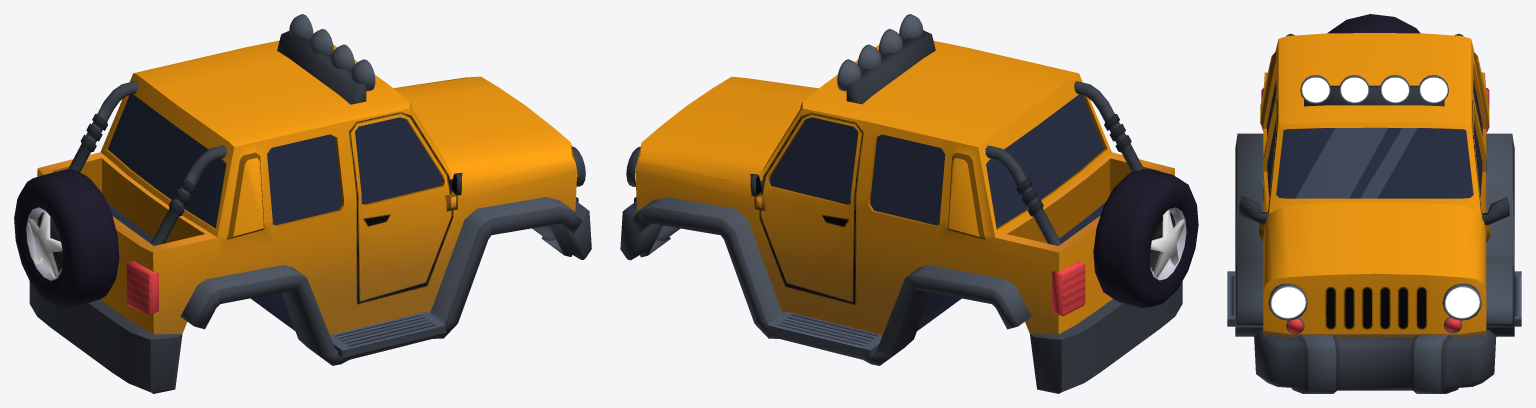
File: chassis_1.glb
The picture shows the model from 3 angles, left to right: view 1: azimuth 30°, elevation 25°; view 2: azimuth 150°, elevation 25°; view 3: azimuth 270°, elevation 25°; orthographic projection. The views are drawn at different scales.
Parts seen in each view (by area): view 1: Base_4, Fender001_19, Wheel005_35, Step001_24, Roof_lamp_support_9, Tube001_23, Bumper_Front_5, Tube_11, Rear_Light001_18, Wheel_disk004_36, Roof_Lamp003_22, Roof_Lamp001_20; view 2: Base_4, Fender_6, Wheel005_35, Step_14, Roof_lamp_support_9, Tube_11, Bumper_Front_5, Rear_Light_12, Tube001_23, Wheel_disk004_36, Roof_Lamp_10, Roof_Lamp002_21; view 3: Base_4, Bumper_Front_5, Fender_6, Fender001_19, Wheel005_35, Front_Light_Big_L_7, Front_Light_Big_R_15, Roof_lamp_support_9, Roof_Lamp003_22, Roof_Lamp001_20, Roof_Lamp002_21, Roof_Lamp_10 (+4 smaller).
Boxes of the visible parts, x1,y1,x2,y2 form: Base_4: [29, 40, 577, 393]; Fender001_19: [180, 197, 582, 365]; Wheel005_35: [14, 169, 119, 308]; Step001_24: [330, 311, 445, 357]; Roof_lamp_support_9: [277, 30, 366, 104]; Tube001_23: [151, 145, 226, 245]; Bumper_Front_5: [532, 197, 591, 259]; Tube_11: [68, 81, 137, 172]; Rear_Light001_18: [126, 260, 158, 315]; Wheel_disk004_36: [28, 211, 62, 278]; Roof_Lamp003_22: [351, 59, 375, 91]; Roof_Lamp001_20: [309, 29, 333, 56]; Base_4: [635, 41, 1182, 393]; Fender_6: [630, 197, 1031, 365]; Wheel005_35: [1093, 169, 1198, 307]; Step_14: [767, 311, 882, 357]; Roof_lamp_support_9: [846, 30, 935, 104]; Tube_11: [985, 145, 1061, 245]; Bumper_Front_5: [620, 197, 680, 260]; Rear_Light_12: [1052, 261, 1085, 315]; Tube001_23: [1074, 81, 1143, 171]; Wheel_disk004_36: [1150, 210, 1184, 278]; Roof_Lamp_10: [837, 59, 861, 91]; Roof_Lamp002_21: [878, 29, 902, 56]; Base_4: [1260, 33, 1489, 337]; Bumper_Front_5: [1254, 329, 1496, 393]; Fender_6: [1486, 133, 1514, 336]; Fender001_19: [1235, 133, 1263, 336]; Wheel005_35: [1327, 14, 1420, 33]; Front_Light_Big_L_7: [1442, 283, 1481, 320]; Front_Light_Big_R_15: [1268, 283, 1307, 320]; Roof_lamp_support_9: [1304, 85, 1444, 106]; Roof_Lamp003_22: [1300, 75, 1330, 104]; Roof_Lamp001_20: [1379, 75, 1410, 104]; Roof_Lamp002_21: [1339, 75, 1369, 104]; Roof_Lamp_10: [1418, 75, 1448, 104].
Bounding box in the file's own units: 4.93 × 2.41 × 2.62.
Materials: 1 (1 with a texture image).
